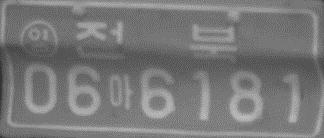0: (22, 63, 58, 114)
1: (274, 71, 310, 127), (184, 69, 221, 123)
6: (140, 67, 176, 120), (67, 63, 102, 116)
8: (227, 68, 264, 123)
아: (107, 72, 135, 113)
영: (20, 19, 59, 59)
전북_D: (73, 19, 238, 62)
